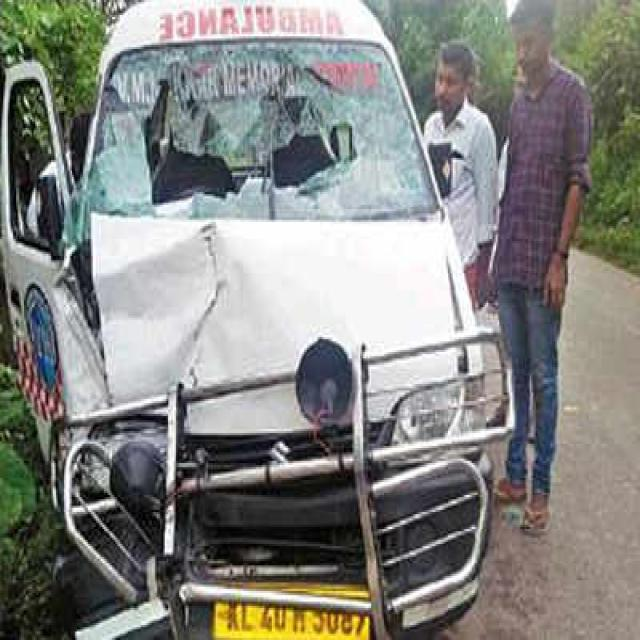accident: (2, 2, 519, 638)
